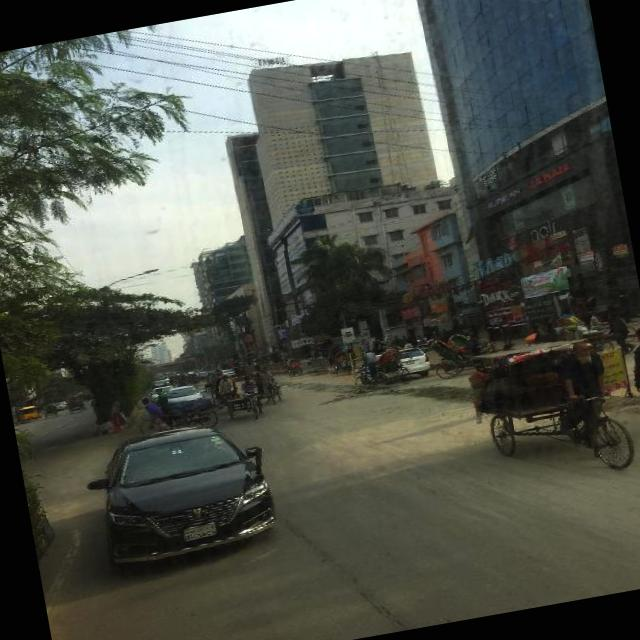bus: (162, 371, 172, 376)
car: (82, 413, 280, 570), (396, 344, 432, 379), (163, 382, 203, 405), (146, 383, 174, 402), (54, 400, 68, 410), (150, 377, 165, 386), (220, 367, 233, 376), (196, 370, 207, 378)
motorcycle: (553, 301, 637, 353), (346, 345, 410, 393), (430, 333, 478, 381), (444, 326, 500, 358), (250, 366, 282, 406), (211, 372, 238, 404), (328, 348, 352, 378), (284, 356, 300, 376), (42, 402, 58, 418), (187, 372, 199, 386), (174, 374, 187, 385)
